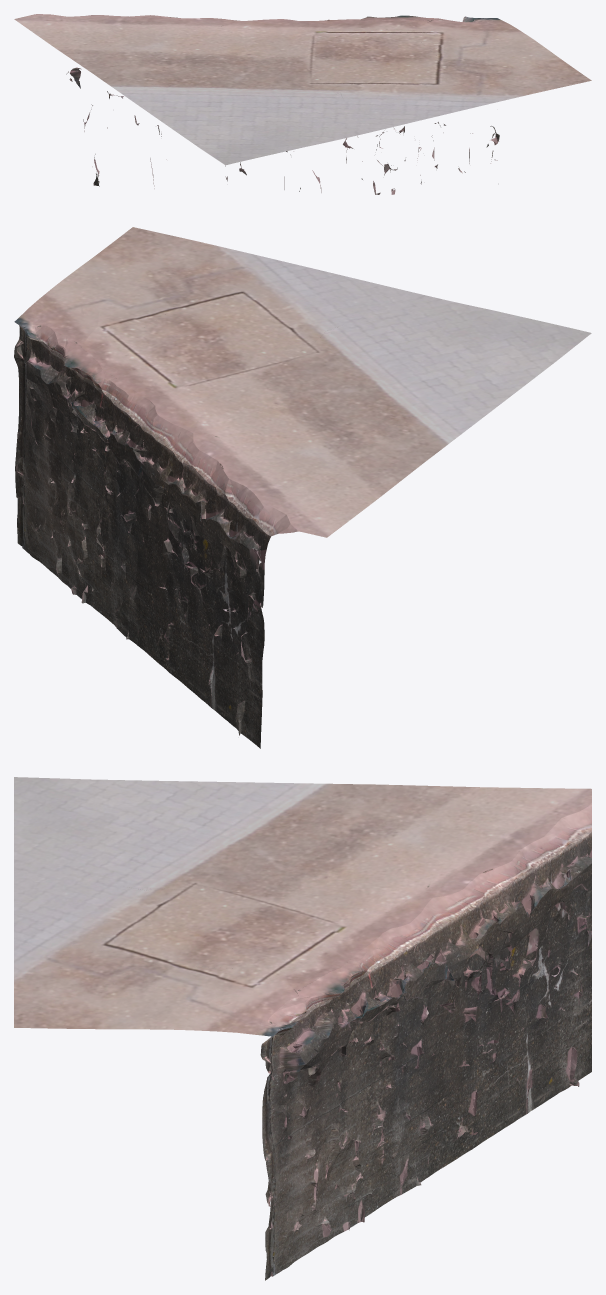
3 views of the same model, one above another, from view 1: azimuth 30°, elevation 25°; view 2: azimuth 150°, elevation 25°; view 3: azimuth 270°, elevation 25° (orthographic). The views are drawn at different scales.
Size of the model in its own units: 4.18 by 2.07 by 4.18.
Materials: 4 (4 with a texture image).
